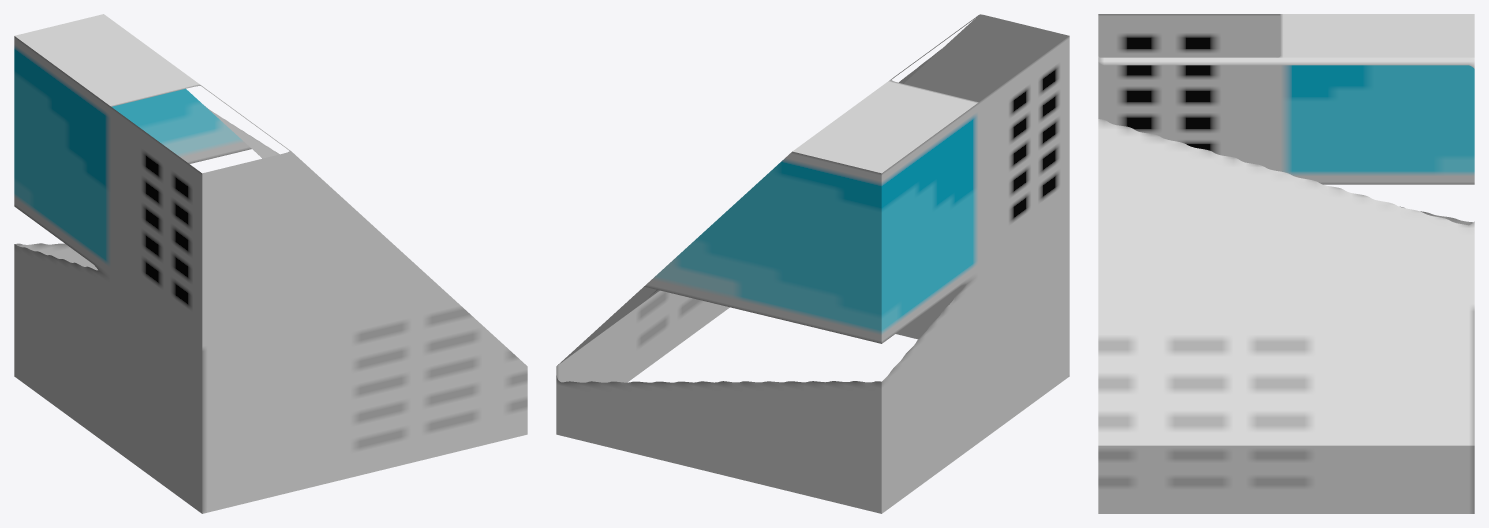
Rendered from pc_top.obj.
The picture shows the model from 3 angles, left to right: view 1: azimuth 30°, elevation 25°; view 2: azimuth 150°, elevation 25°; view 3: azimuth 270°, elevation 25°; orthographic projection.
Visible parts, largest first — view 1: pc_top; view 2: pc_top; view 3: pc_top.
Part boxes in pixels (left/top/right/bottom): pc_top: left=14, top=14, right=527, bottom=513; pc_top: left=556, top=14, right=1069, bottom=513; pc_top: left=1098, top=14, right=1474, bottom=513.
Bounding box in the file's own units: 1 × 1 × 1.
